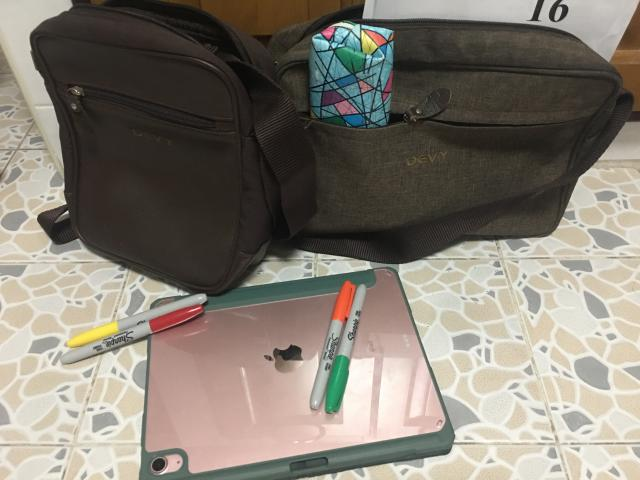Pen: (60, 294, 208, 364), (310, 281, 366, 412)
paper: (362, 0, 639, 61)
